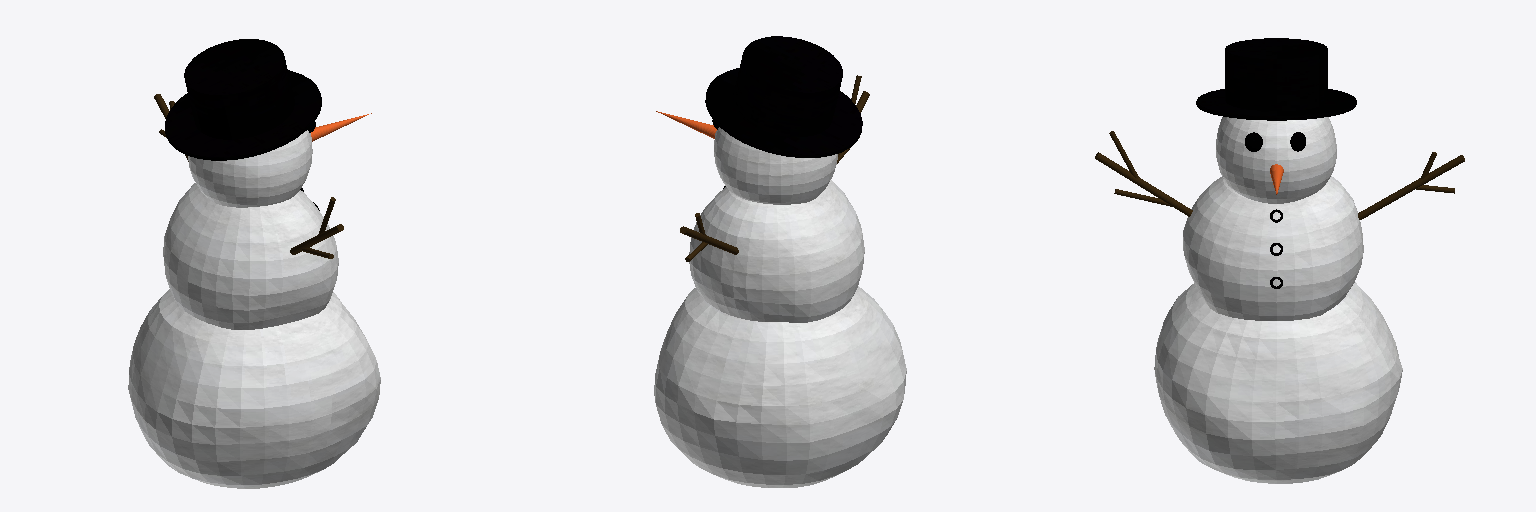
3 views of the same model, side by side, from view 1: azimuth 30°, elevation 25°; view 2: azimuth 150°, elevation 25°; view 3: azimuth 270°, elevation 25° (orthographic).
Parts seen in each view (by area): view 1: Sphere, Sphere.001, Cylinder.001, Sphere.002, Cylinder; view 2: Sphere, Sphere.001, Cylinder.001, Sphere.002, Cylinder; view 3: Sphere, Sphere.001, Sphere.002, Cylinder.001, Cylinder, Cylinder.002, Cylinder.006.
Boxes of the visible parts, box(x1,y1,x2,y2) form: Sphere: box(128, 289, 380, 488); Sphere.001: box(163, 183, 338, 329); Cylinder.001: box(184, 39, 294, 139); Sphere.002: box(188, 130, 312, 207); Cylinder: box(165, 70, 321, 160); Sphere: box(654, 286, 906, 487); Sphere.001: box(689, 180, 864, 322); Cylinder.001: box(732, 36, 842, 136); Sphere.002: box(714, 127, 837, 204); Cylinder: box(705, 68, 862, 157); Sphere: box(1154, 282, 1402, 483); Sphere.001: box(1183, 176, 1363, 320); Sphere.002: box(1216, 117, 1336, 203); Cylinder.001: box(1225, 38, 1327, 110); Cylinder: box(1196, 89, 1356, 120); Cylinder.002: box(1358, 155, 1464, 219); Cylinder.006: box(1095, 152, 1192, 216).
Size of the model in its own units: 2.48 by 4.27 by 3.47.
9 materials, 4 textured.